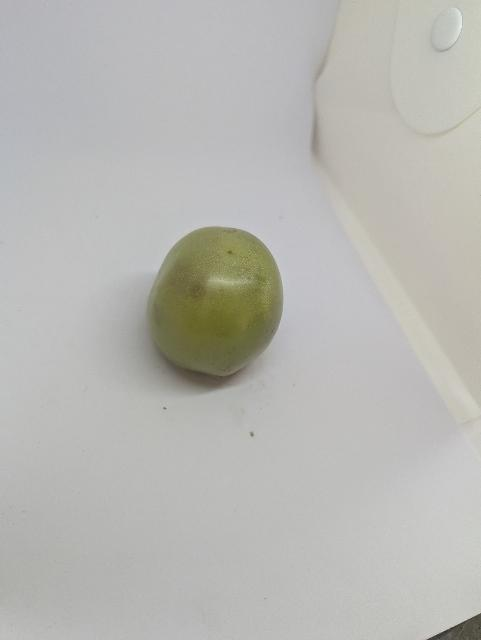green: (131, 212, 311, 402)
